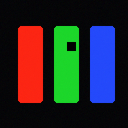1 square: (67, 42, 75, 50)
